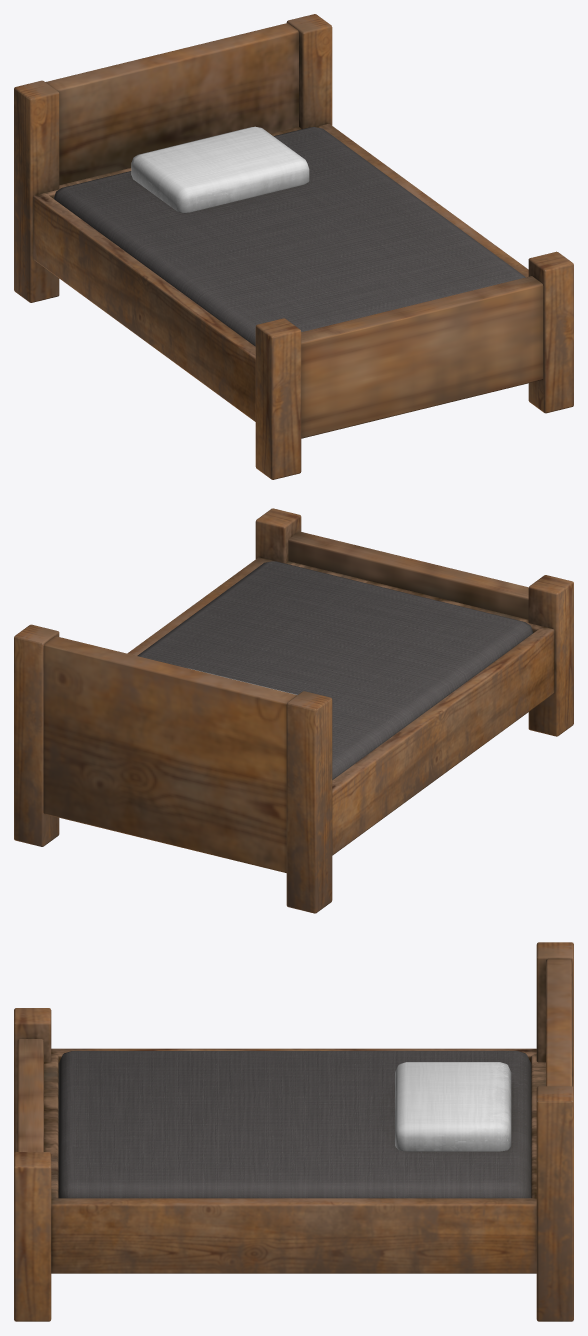
Rendered from Bed.fbx.
The picture shows the model from 3 angles, top to bottom: view 1: azimuth 30°, elevation 25°; view 2: azimuth 150°, elevation 25°; view 3: azimuth 270°, elevation 25°; orthographic projection. The views are drawn at different scales.
Parts seen in each view (by area): view 1: Bed, Cube.021, Cube.023, Cube.020, Cube.019, Cube.022, Cube.025; view 2: Cube.023, Bed, Cube.020, Cube.022, Cube.021, Cube.019; view 3: Bed, Cube.020, Cube.022, Cube.025, Cube.019, Cube.023, Cube.021.
Part boxes in pixels (<box>): Bed: <box>54,127,525,346</box>; Cube.021: <box>301,276,543,438</box>; Cube.023: <box>45,23,298,185</box>; Cube.020: <box>33,124,528,421</box>; Cube.019: <box>255,251,573,479</box>; Cube.022: <box>14,14,332,302</box>; Cube.025: <box>131,126,309,212</box>; Cube.023: <box>43,636,297,872</box>; Bed: <box>137,561,533,779</box>; Cube.020: <box>127,557,554,855</box>; Cube.022: <box>14,624,332,913</box>; Cube.021: <box>288,531,528,619</box>; Cube.019: <box>255,508,573,736</box>; Bed: <box>58,1051,531,1198</box>; Cube.020: <box>44,1048,545,1273</box>; Cube.022: <box>536,942,573,1321</box>; Cube.025: <box>395,1062,511,1151</box>; Cube.019: <box>14,1008,51,1321</box>; Cube.023: <box>546,958,571,1086</box>; Cube.021: <box>17,1039,43,1151</box>.
Bounding box in the file's own units: 204 × 132 × 302.
Materials: 1 (1 with a texture image).
